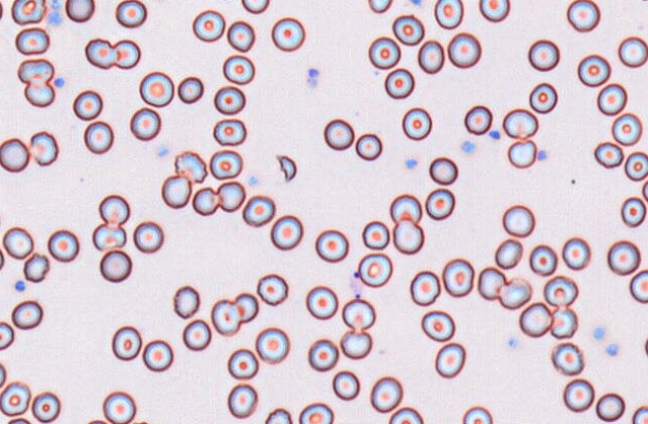PLT: (594, 324, 609, 341), (462, 140, 478, 154), (605, 343, 620, 357), (536, 148, 549, 163), (306, 66, 320, 79), (489, 127, 502, 141), (14, 280, 27, 293), (53, 76, 67, 88)
RBC: (255, 326, 290, 364), (138, 71, 174, 107), (442, 257, 474, 297), (357, 252, 392, 287), (518, 301, 552, 337), (447, 32, 481, 68), (270, 214, 303, 250), (607, 239, 640, 275), (370, 375, 402, 412), (271, 17, 305, 51), (314, 229, 349, 262), (173, 150, 207, 183), (498, 276, 532, 309), (305, 285, 338, 319), (577, 54, 611, 87), (543, 275, 578, 307), (392, 219, 424, 254), (129, 106, 161, 141), (0, 380, 31, 416), (434, 342, 465, 378), (502, 108, 538, 139), (210, 298, 240, 335), (242, 194, 275, 227), (99, 249, 132, 282), (551, 342, 584, 375), (192, 9, 225, 42), (502, 204, 535, 237), (341, 298, 375, 330), (102, 391, 136, 423), (562, 378, 594, 412), (566, 0, 600, 32), (420, 310, 455, 341), (409, 270, 440, 305), (47, 229, 79, 262), (368, 36, 400, 69), (160, 174, 191, 208), (611, 112, 642, 146), (227, 383, 257, 418), (111, 325, 141, 360), (29, 130, 58, 166), (256, 273, 288, 305), (527, 39, 559, 71), (2, 226, 33, 259), (389, 193, 422, 224), (142, 339, 173, 372), (307, 338, 338, 371), (209, 149, 242, 180), (132, 220, 163, 253), (401, 107, 432, 140), (83, 120, 113, 154), (561, 236, 591, 270), (0, 137, 29, 172), (14, 27, 50, 55), (84, 37, 116, 68), (323, 118, 354, 150), (392, 14, 424, 45), (596, 83, 627, 115), (339, 329, 372, 359), (425, 187, 455, 220), (92, 222, 126, 251), (477, 266, 506, 300), (17, 58, 54, 84), (98, 194, 129, 225), (227, 348, 258, 379), (11, 299, 43, 329), (213, 85, 245, 115), (617, 36, 647, 68), (384, 67, 414, 99), (222, 54, 254, 84), (182, 318, 211, 351), (172, 285, 200, 319), (212, 118, 246, 146), (72, 89, 102, 120), (226, 20, 255, 52), (550, 306, 578, 339), (417, 39, 444, 73), (494, 238, 523, 269), (31, 391, 60, 422), (528, 82, 557, 113), (463, 104, 492, 135), (217, 180, 245, 212), (115, 0, 147, 28), (529, 244, 557, 276), (595, 392, 625, 421), (507, 138, 536, 168), (433, 0, 463, 29), (428, 156, 458, 185), (11, 0, 45, 25), (113, 39, 141, 69), (361, 220, 389, 249), (332, 370, 359, 400), (620, 196, 646, 227), (192, 186, 219, 215), (594, 141, 623, 168), (23, 252, 49, 282), (355, 132, 382, 160), (233, 292, 258, 322), (298, 402, 333, 423), (177, 75, 203, 103), (478, 0, 510, 22), (624, 151, 647, 181), (64, 0, 95, 22), (629, 269, 647, 303), (388, 406, 423, 423), (462, 406, 492, 423), (264, 407, 292, 423), (0, 320, 14, 350), (241, 0, 269, 14), (367, 0, 392, 13), (632, 405, 647, 423), (0, 362, 6, 387), (7, 417, 31, 423), (642, 179, 647, 202), (0, 248, 4, 270), (644, 336, 648, 357), (87, 419, 108, 423), (0, 0, 3, 20)
Schistocyte: (274, 154, 298, 184)
